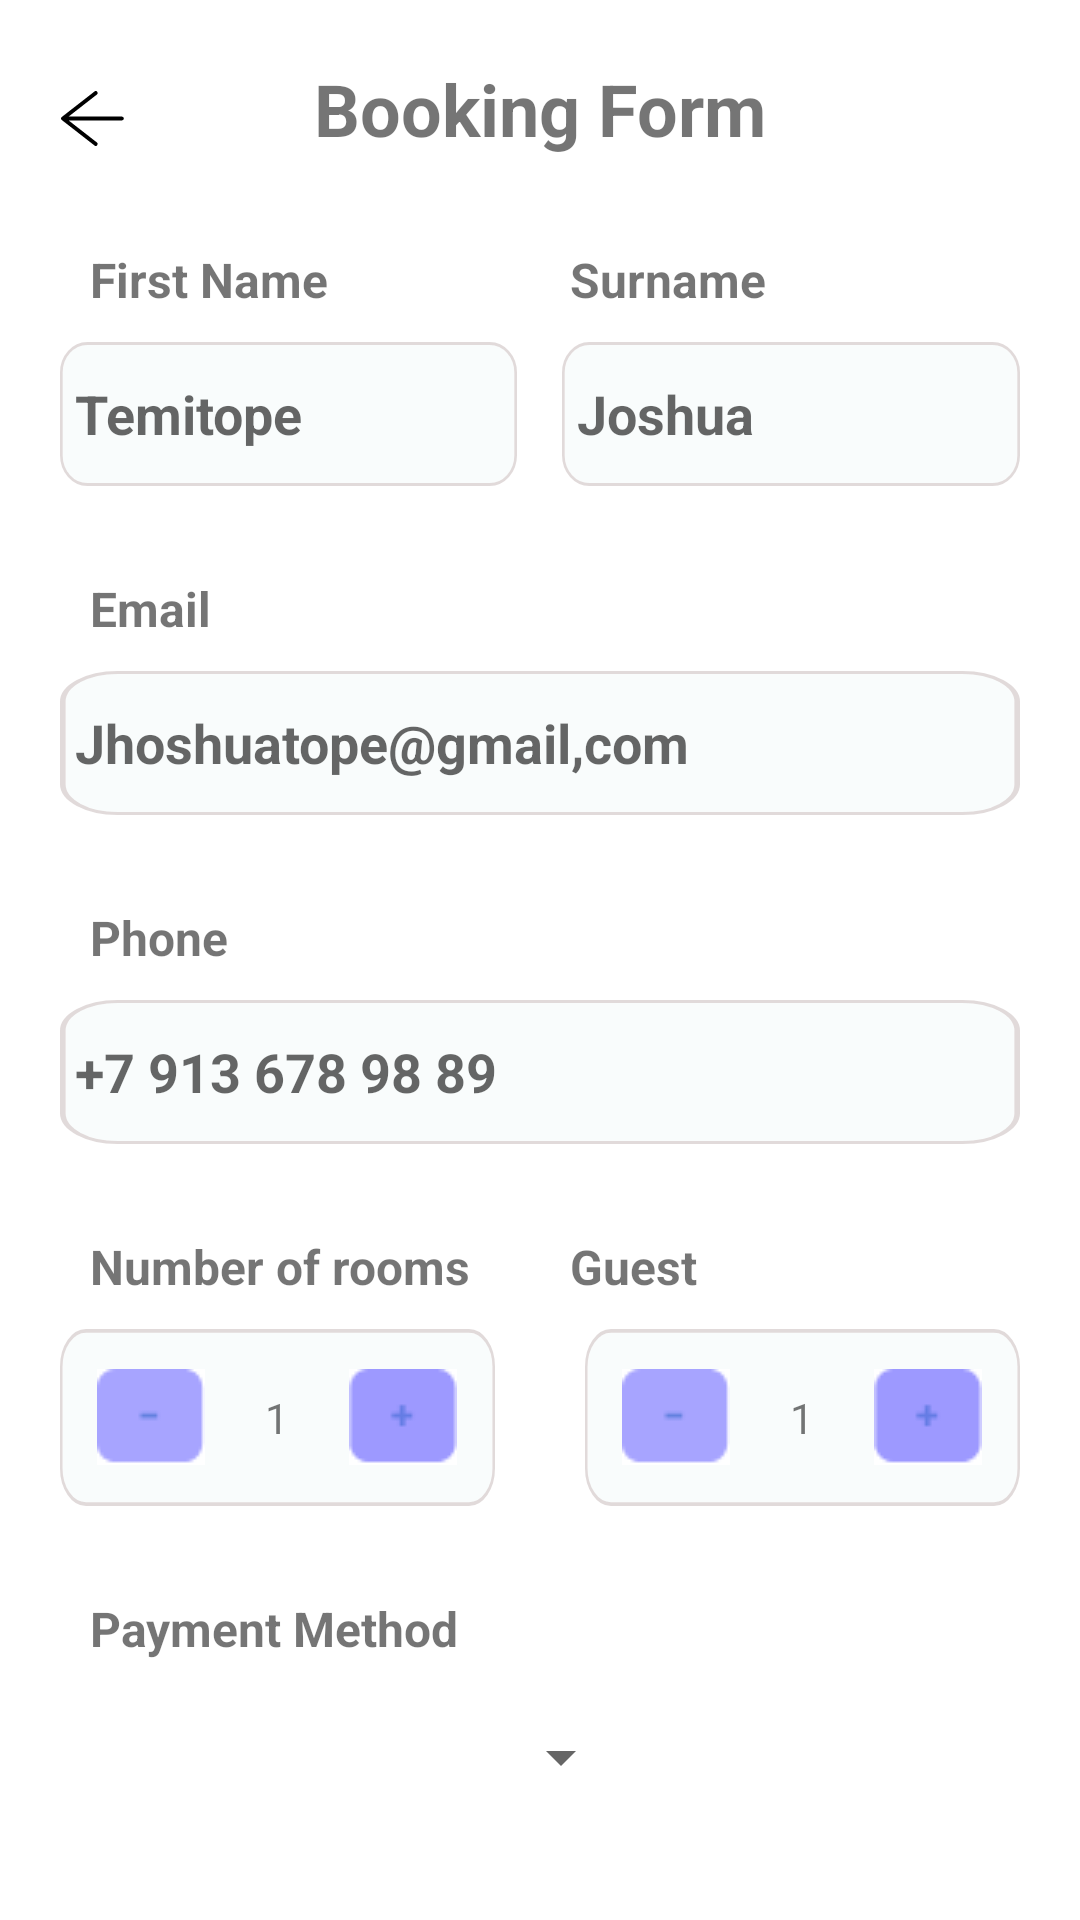

Named icons in this screenshot (1080×1920) and their centers, (x,y):
arrow: (92,118)
minus: (150,1416), (675,1416)
plus: (403,1416), (928,1416)
